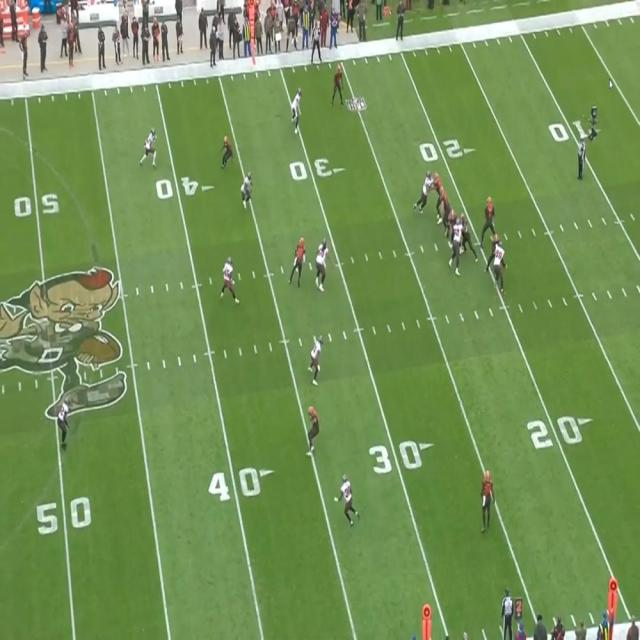db: (57, 399, 71, 448), (343, 477, 357, 525), (310, 339, 322, 385), (141, 127, 155, 164), (294, 88, 304, 133)
lb: (224, 258, 238, 304), (318, 240, 331, 288), (241, 170, 255, 210)
qb: (485, 193, 494, 237)
skill: (480, 470, 493, 530), (306, 406, 320, 454), (296, 238, 310, 286), (331, 61, 344, 103), (222, 133, 232, 167)
